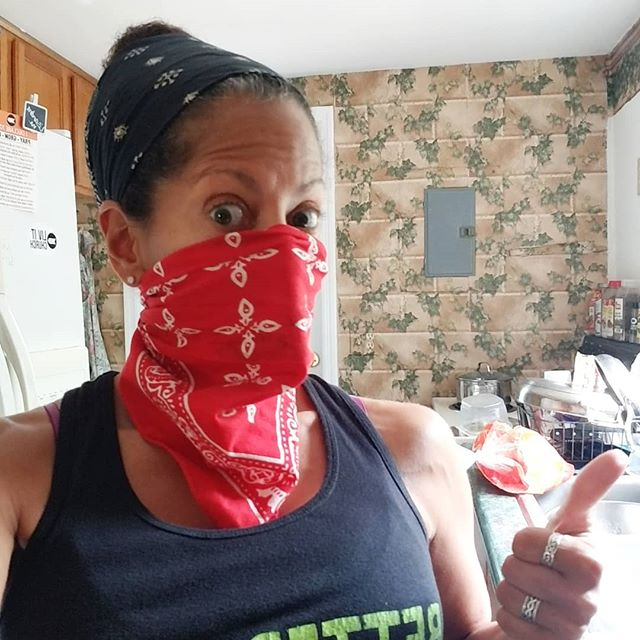homemade: (127, 237, 347, 515)
